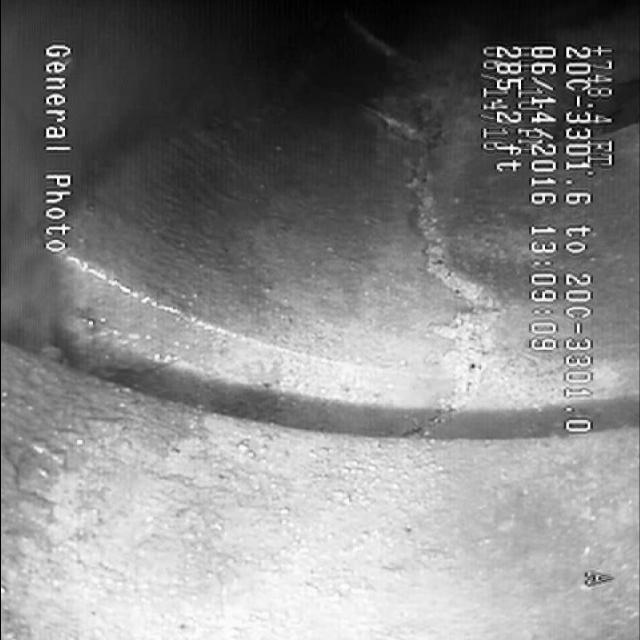Crack: (386, 196, 496, 418)
